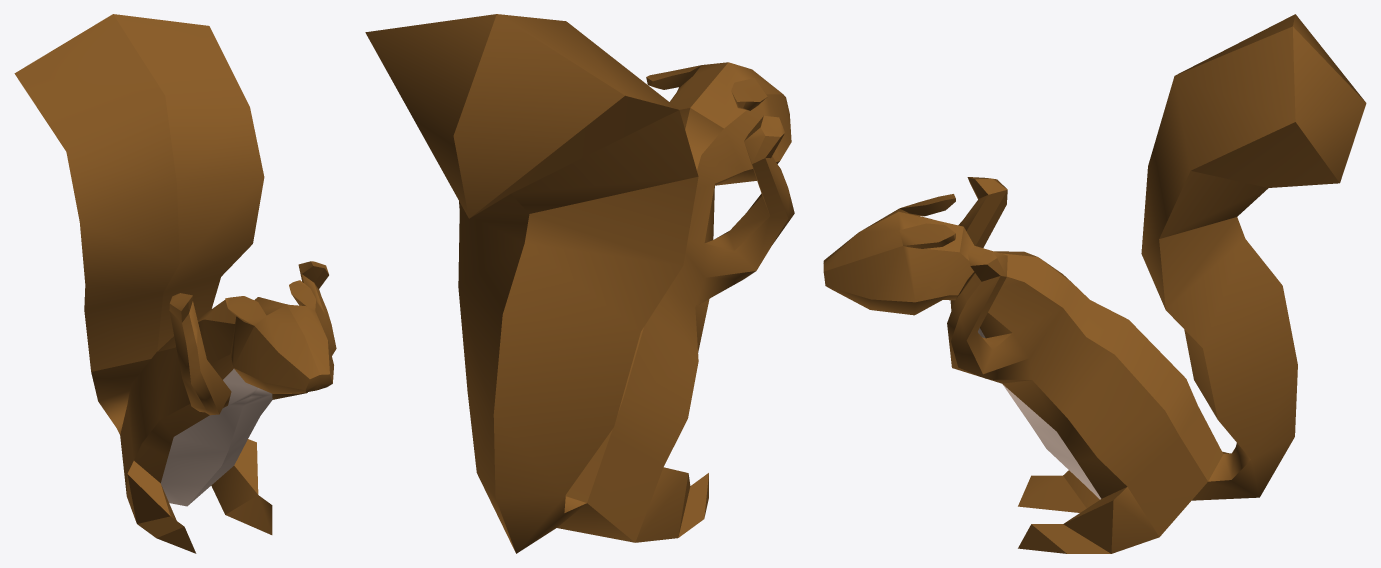
Rendered from squirrel_handsup.fbx.
3 views of the same model, side by side, from view 1: azimuth 30°, elevation 25°; view 2: azimuth 150°, elevation 25°; view 3: azimuth 270°, elevation 25° (orthographic). The views are drawn at different scales.
Parts seen in each view (by area): view 1: polySurface6; view 2: polySurface6; view 3: polySurface6.
Part boxes in pixels (bbox=[...]): polySurface6: bbox=[14, 14, 336, 553]; polySurface6: bbox=[365, 14, 794, 553]; polySurface6: bbox=[823, 14, 1366, 553].
Bounding box in the file's own units: 3.72 × 8.05 × 7.91.
